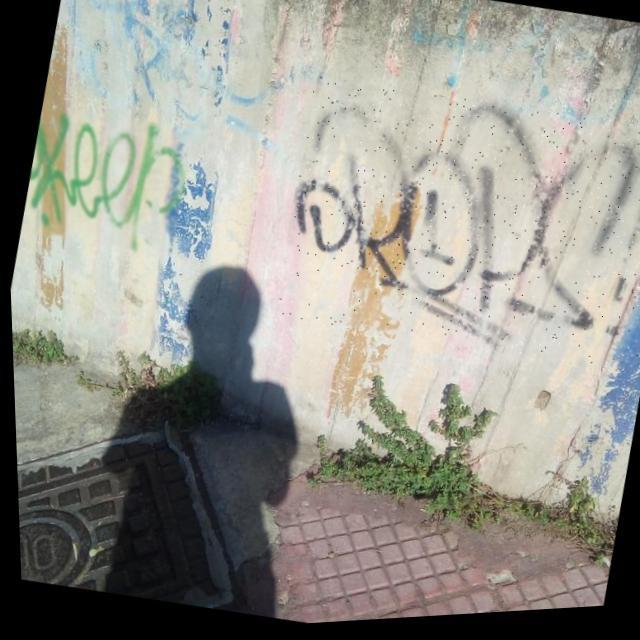-: (263, 64, 640, 396), (14, 99, 196, 265)
